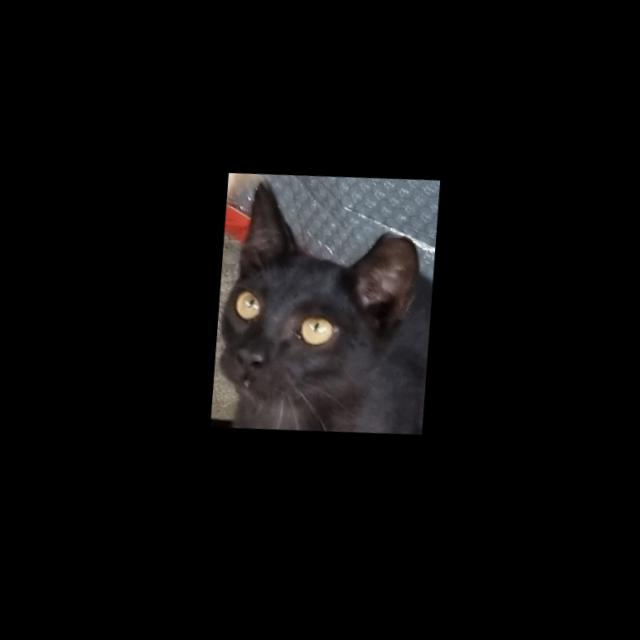animals: (209, 173, 432, 431)
